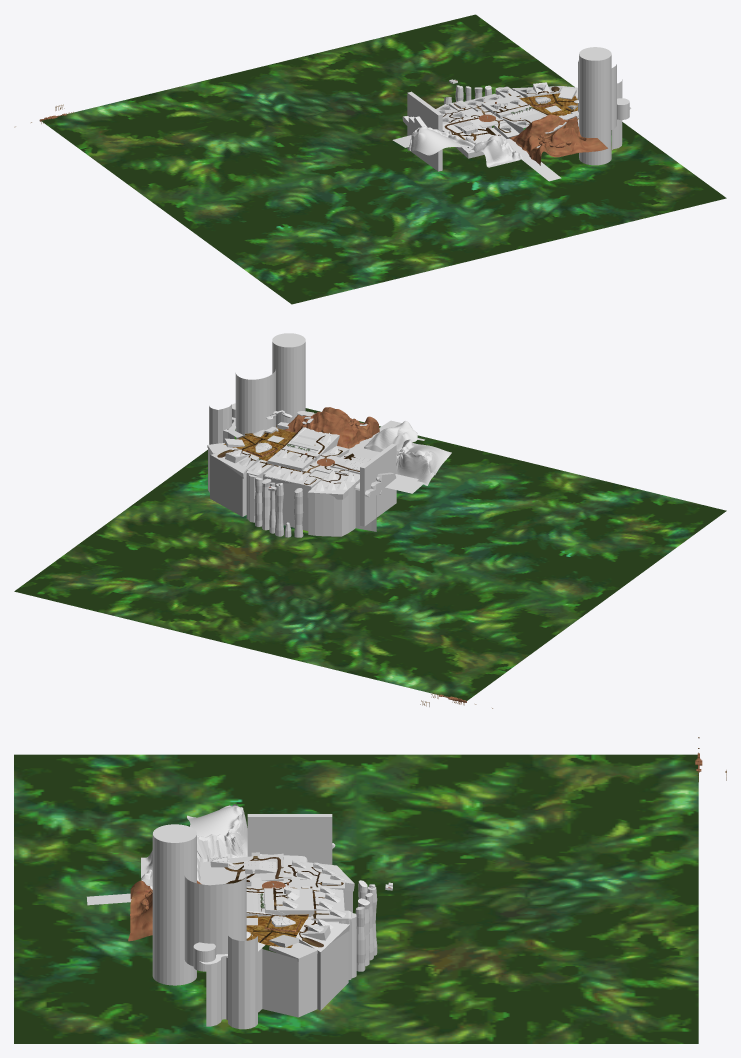
Rendered from clifful-v2.glb.
The picture shows the model from 3 angles, top to bottom: view 1: azimuth 30°, elevation 25°; view 2: azimuth 150°, elevation 25°; view 3: azimuth 270°, elevation 25°; orthographic projection. The views are drawn at different scales.
Parts seen in each view (by area): view 1: water.001, Cylinder.003, cliff.002, Cube.027, mountain 2, Mountain, road, Cube.008, ground.001, ground.009, Plane.004; view 2: water.001, cliff MAIN, Cylinder.003, Cylinder, cliff.002, Cube.027, mountain 2, Mountain, Plane.004, road, ground.001, ground.028; view 3: water.001, cliff MAIN, Cylinder.003, Cylinder, Cube.027, mountain 2, Cube.008, road, cliff.002, ground.001, ground.005, ground.028 (+4 smaller).
Boxes of the visible parts, x1,y1,x2,y2 form: water.001: (41, 14, 726, 304); Cylinder.003: (579, 47, 611, 165); cliff.002: (509, 114, 607, 165); Cube.027: (407, 91, 442, 171); mountain 2: (408, 126, 479, 155); Mountain: (469, 135, 523, 167); road: (443, 86, 573, 140); Cube.008: (442, 116, 493, 158); ground.001: (481, 95, 532, 118); ground.009: (490, 127, 561, 181); Plane.004: (502, 108, 547, 133); water.001: (14, 408, 726, 700); cliff MAIN: (208, 404, 376, 536); Cylinder.003: (272, 333, 305, 427); Cylinder: (235, 369, 275, 438); cliff.002: (284, 407, 379, 448); Cube.027: (360, 443, 396, 526); mountain 2: (396, 439, 451, 485); Mountain: (364, 421, 424, 454); Plane.004: (285, 427, 339, 455); road: (217, 427, 359, 484); ground.001: (267, 446, 319, 471); ground.028: (307, 471, 359, 499); water.001: (14, 754, 698, 1043); cliff MAIN: (206, 882, 356, 1029); Cylinder.003: (152, 824, 196, 985); Cylinder: (184, 875, 246, 966); Cube.027: (247, 814, 332, 864); mountain 2: (187, 804, 247, 862); Cube.008: (199, 853, 283, 886); road: (224, 856, 343, 947); cliff.002: (128, 880, 201, 941); ground.001: (264, 888, 313, 916); ground.005: (251, 914, 308, 947); ground.028: (283, 859, 354, 891).
Size of what is drawn, in the model's own units: 2121 by 540 by 2082.
Materials: 148 (140 with a texture image).
